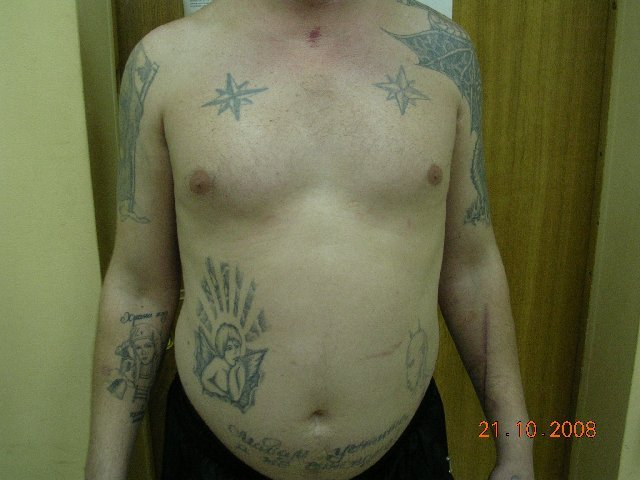tatu1_angel: (191, 320, 273, 412)
tatu4_zvezda: (205, 71, 267, 125), (371, 66, 430, 115)
